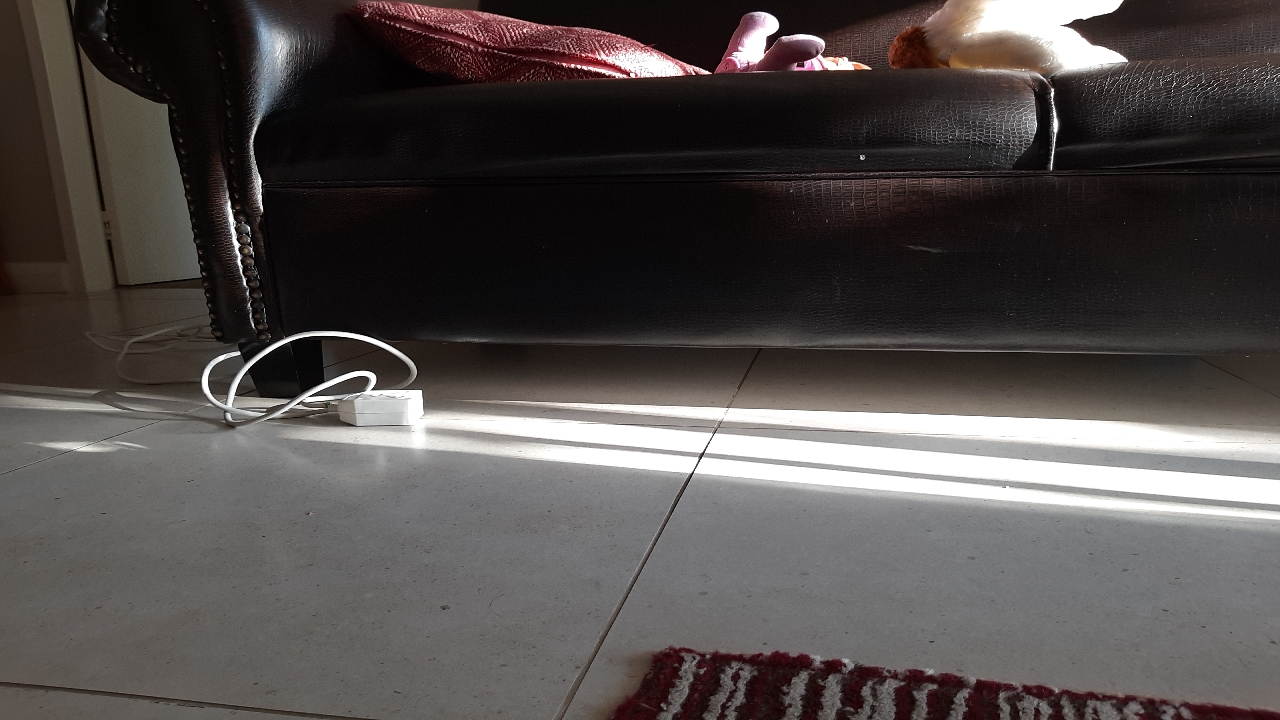cable: (98, 317, 458, 460)
